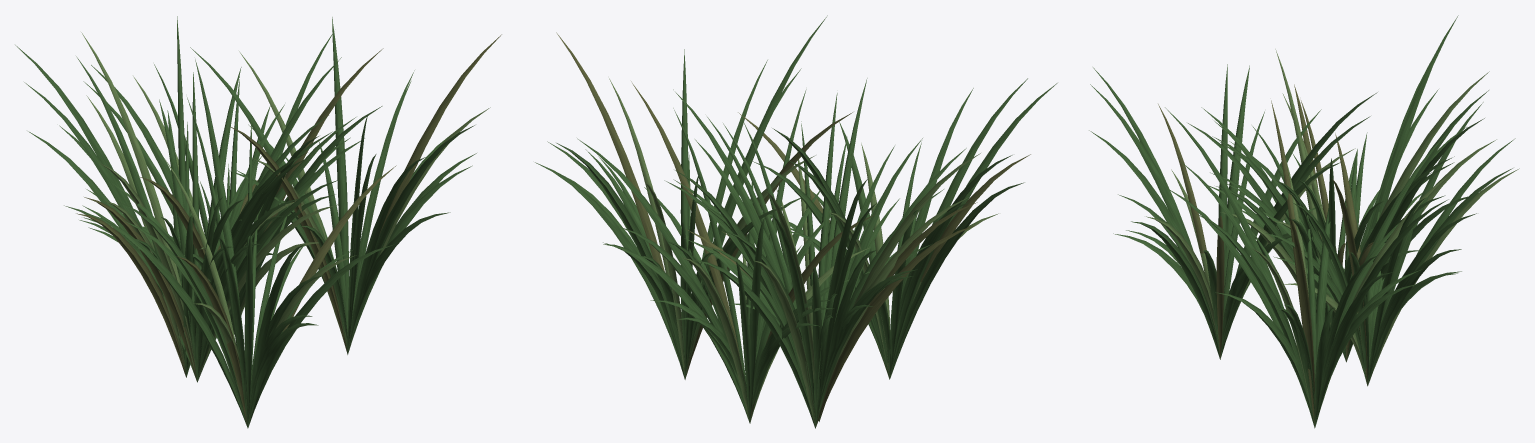
File: v6_sedge.glb
3 renders of one model, left to right at view 1: azimuth 30°, elevation 25°; view 2: azimuth 150°, elevation 25°; view 3: azimuth 270°, elevation 25°, orthographic. The views are drawn at different scales.
Visible parts, largest first — view 1: forest_leaf_surface, forest_old_leaf_surface, forest_new_leaf_surface; view 2: forest_leaf_surface, forest_new_leaf_surface, forest_old_leaf_surface; view 3: forest_leaf_surface, forest_new_leaf_surface, forest_old_leaf_surface.
Part boxes in pixels (<box>): forest_leaf_surface: <box>15,16,476,427</box>; forest_old_leaf_surface: <box>76,34,501,426</box>; forest_new_leaf_surface: <box>81,32,490,381</box>; forest_leaf_surface: <box>535,15,1057,428</box>; forest_new_leaf_surface: <box>609,78,998,425</box>; forest_old_leaf_surface: <box>556,32,1030,427</box>; forest_leaf_surface: <box>1089,15,1515,427</box>; forest_new_leaf_surface: <box>1146,49,1519,416</box>; forest_old_leaf_surface: <box>1158,84,1377,427</box>.
Size of the model in its own units: 0.9077 by 0.6231 by 0.821.
3 materials, 3 textured.
